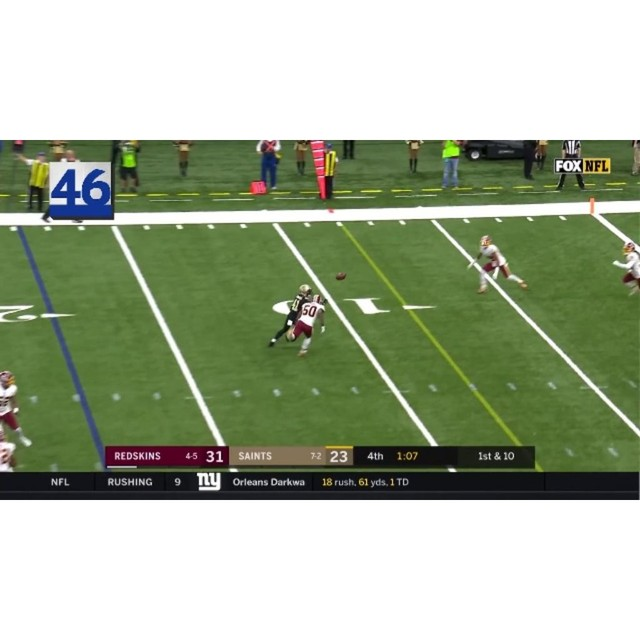american-football-player: (471, 235, 528, 295), (269, 284, 313, 347), (285, 295, 326, 357), (0, 372, 32, 448), (613, 242, 640, 300)
